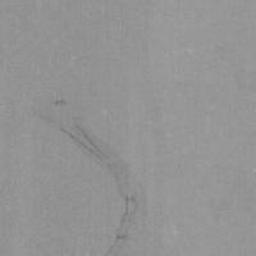Water spot: (31, 93, 148, 256)
